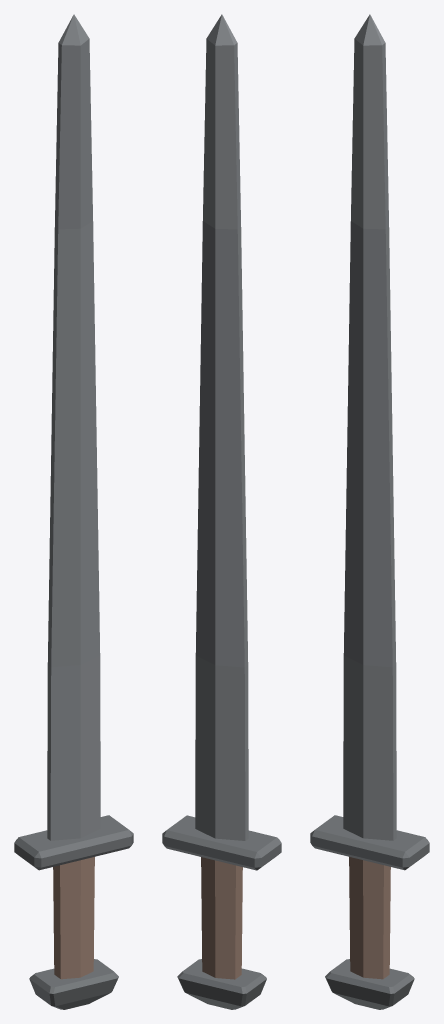
The model's file is Sword.003.fbx.
The picture shows the model from 3 angles, left to right: view 1: azimuth 30°, elevation 25°; view 2: azimuth 150°, elevation 25°; view 3: azimuth 330°, elevation 25°; orthographic projection.
Visible parts, largest first — view 1: Sword.003; view 2: Sword.003; view 3: Sword.003.
Boxes of the visible parts, box(x1,y1,x2,y2) form: Sword.003: box(14, 14, 133, 1009); Sword.003: box(162, 14, 281, 1009); Sword.003: box(310, 14, 429, 1009).
Bounding box in the file's own units: 9.46 × 90.17 × 4.18.
